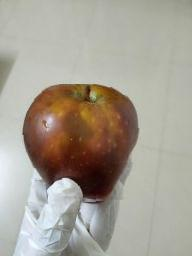Apple Rotten: (16, 84, 141, 206)
